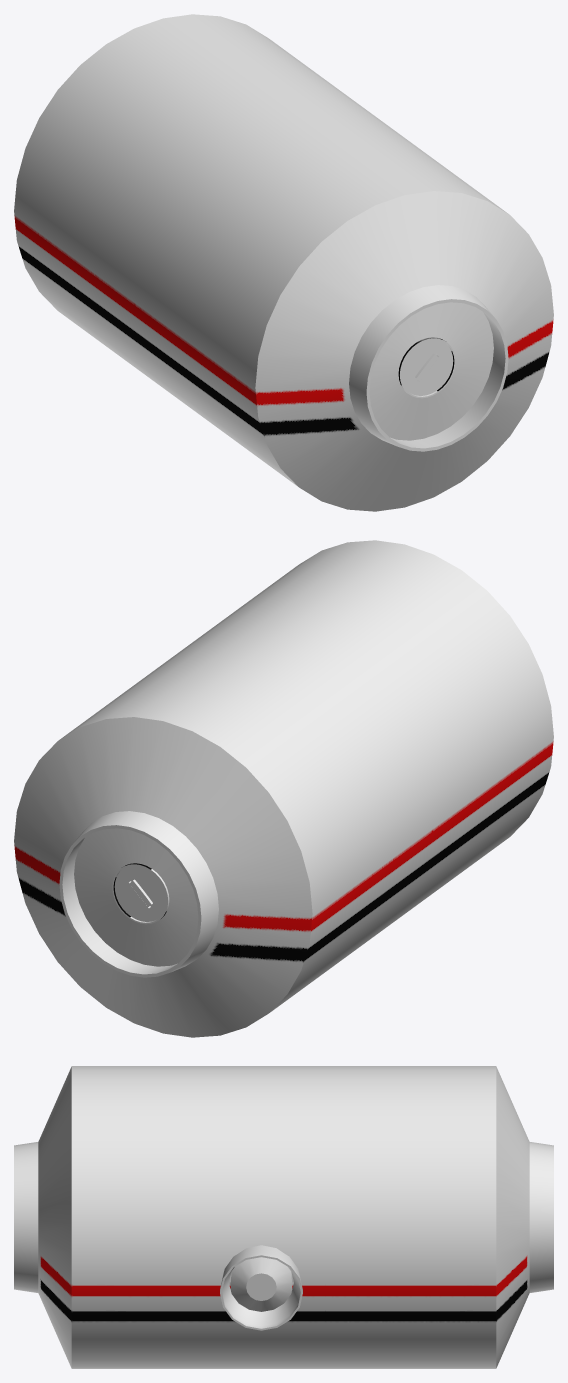
Rendered from Vanity.glb.
3 views of the same model, one above another, from view 1: azimuth 30°, elevation 25°; view 2: azimuth 150°, elevation 25°; view 3: azimuth 270°, elevation 25° (orthographic). The views are drawn at different scales.
Visible parts, largest first — view 1: private outer.002; view 2: private outer.002; view 3: private outer.002.
Part boxes in pixels (x1,y1,x2,y2): private outer.002: [14, 14, 553, 511]; private outer.002: [14, 540, 553, 1037]; private outer.002: [14, 1066, 553, 1368].
Size of the model in its own units: 1.6 by 1.49 by 2.65.
1 material, 1 textured.
